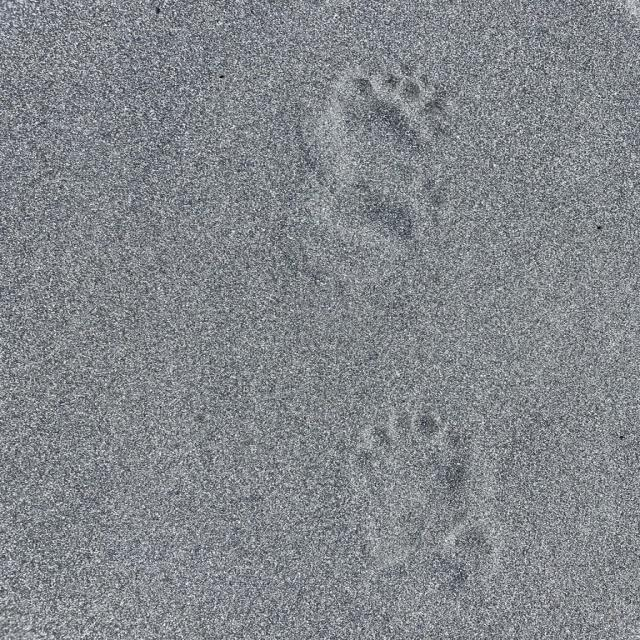bear: (320, 68, 455, 188), (352, 408, 480, 502)
